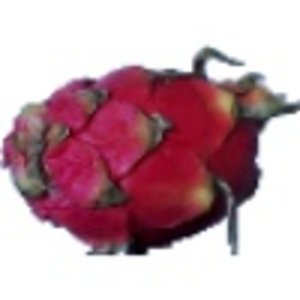pitaia: (1, 47, 300, 258)
